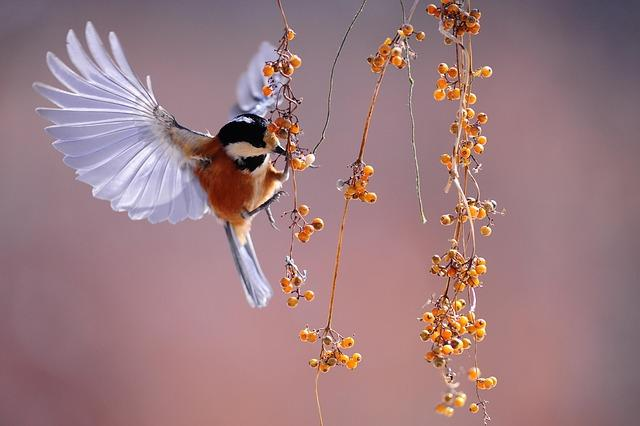Non_Gorille: (30, 0, 573, 419)
